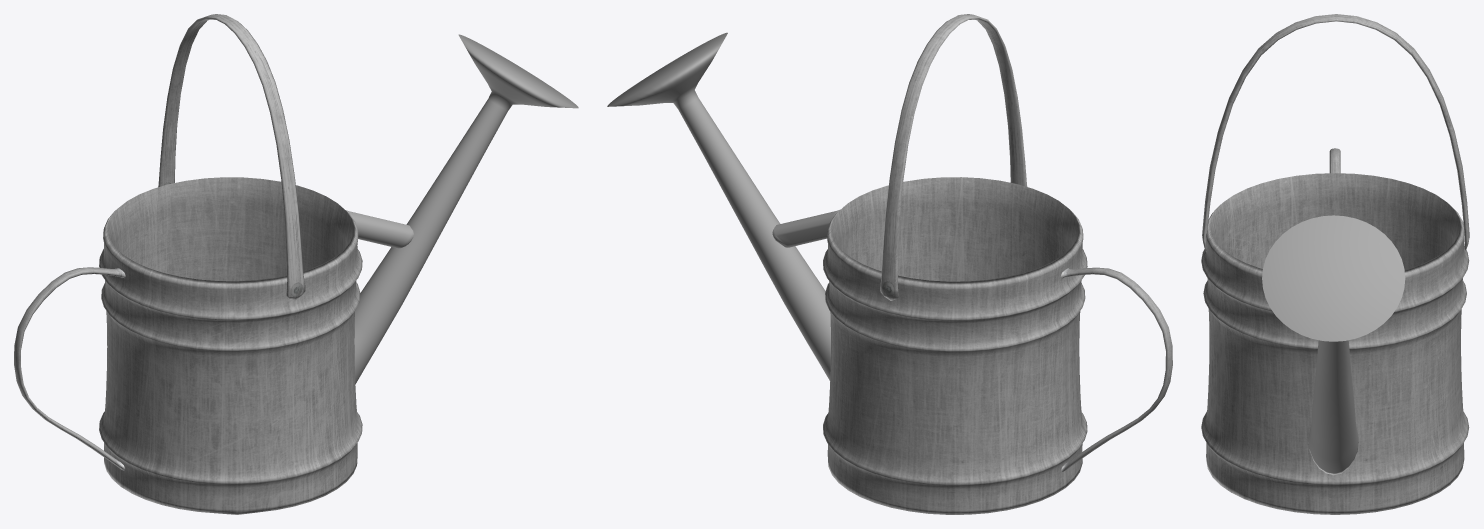
The model's file is Watering Can.fbx.
The picture shows the model from 3 angles, left to right: view 1: azimuth 30°, elevation 25°; view 2: azimuth 150°, elevation 25°; view 3: azimuth 270°, elevation 25°; orthographic projection.
Visible parts, largest first — view 1: pPipe3; view 2: pPipe3; view 3: pPipe3.
Boxes of the visible parts, box(x1,y1,x2,y2) form: pPipe3: box(14, 14, 578, 514); pPipe3: box(607, 14, 1172, 514); pPipe3: box(1201, 14, 1469, 514).
Bounding box in the file's own units: 82.17 × 62.57 × 34.15.
